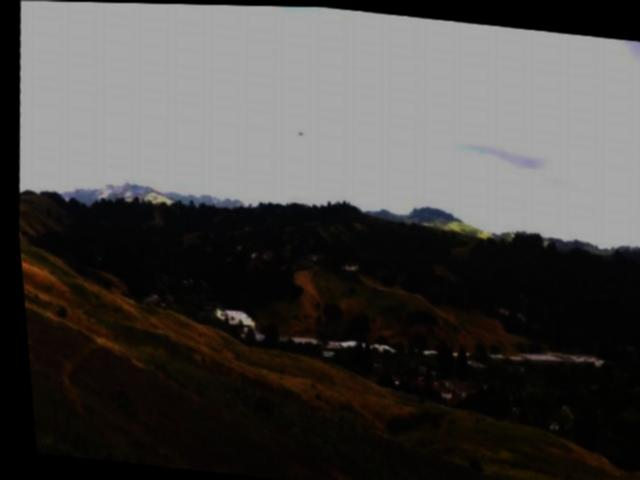iha: (282, 122, 311, 139)
